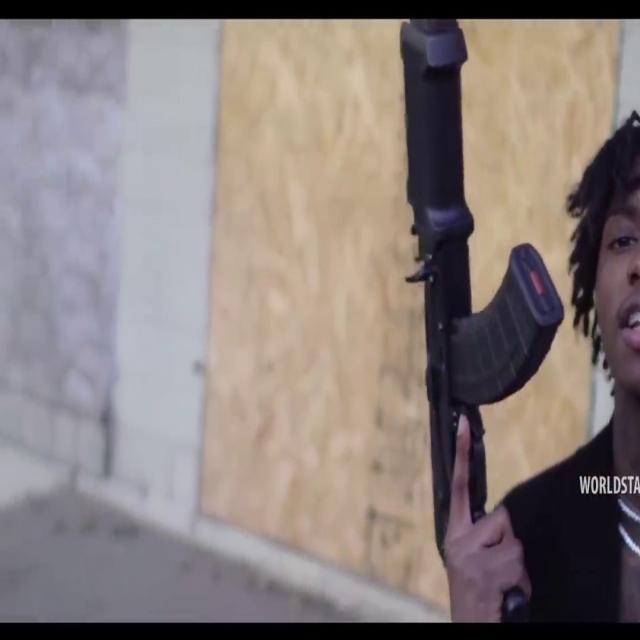Rifle: (395, 22, 565, 606)
